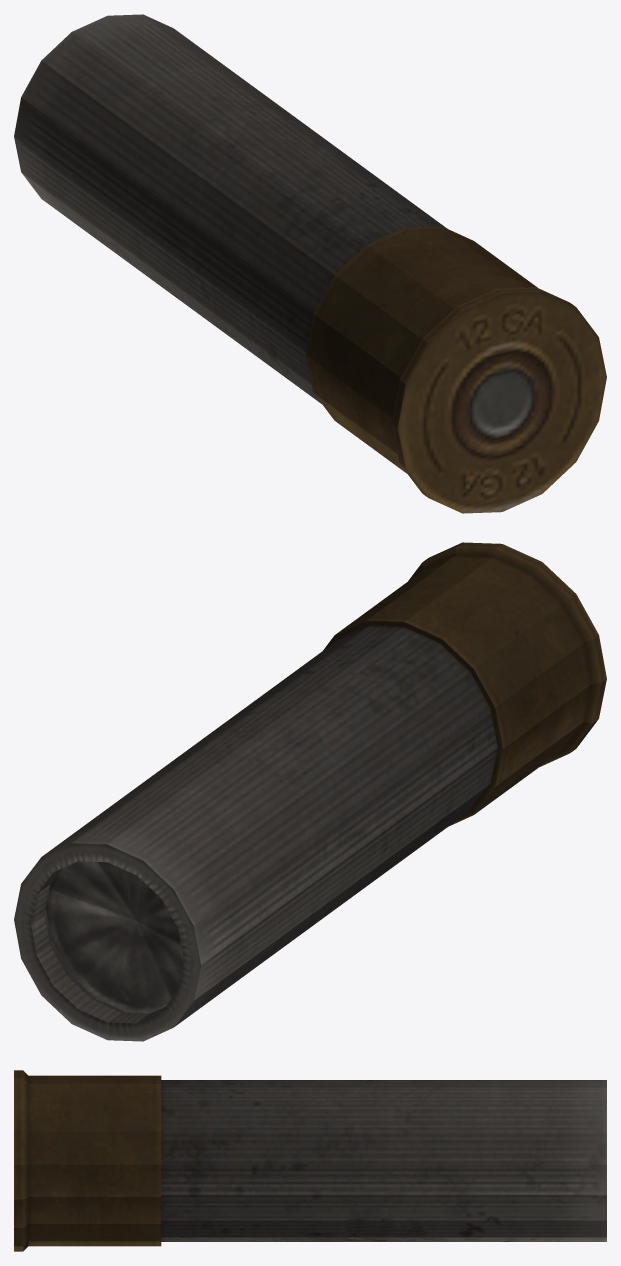
3 renders of one model, top to bottom at view 1: azimuth 30°, elevation 25°; view 2: azimuth 150°, elevation 25°; view 3: azimuth 270°, elevation 25°, orthographic. The views are drawn at different scales.
Parts seen in each view (by area): view 1: TW_5d6e6911a4b9361bd5780d52_PZ_Import; view 2: TW_5d6e6911a4b9361bd5780d52_PZ_Import; view 3: TW_5d6e6911a4b9361bd5780d52_PZ_Import.
Part boxes in pixels (x1,y1,x2,y2): TW_5d6e6911a4b9361bd5780d52_PZ_Import: [14, 14, 606, 513]; TW_5d6e6911a4b9361bd5780d52_PZ_Import: [14, 542, 606, 1041]; TW_5d6e6911a4b9361bd5780d52_PZ_Import: [14, 1070, 606, 1251].
Bounding box in the file's own units: 0.0124 × 0.0406 × 0.0124.
Materials: 1 (1 with a texture image).
